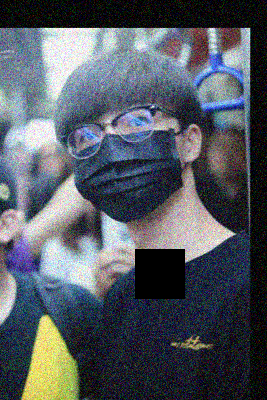with_mask: (71, 97, 189, 222)
